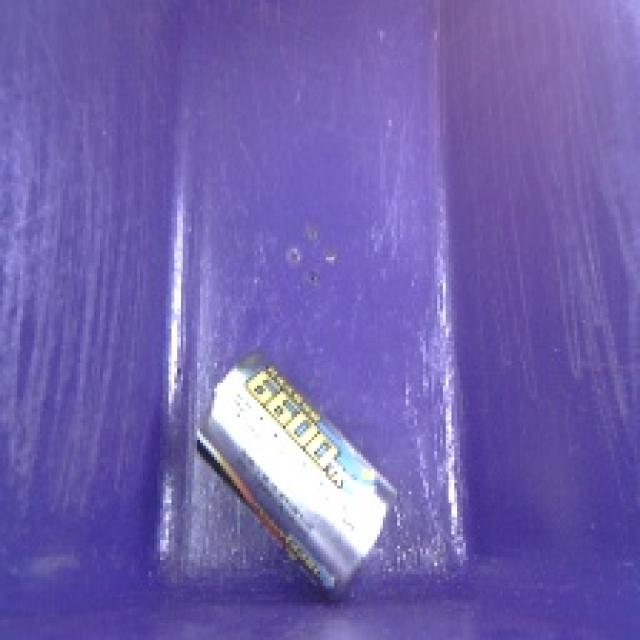battery: (172, 340, 402, 606)
